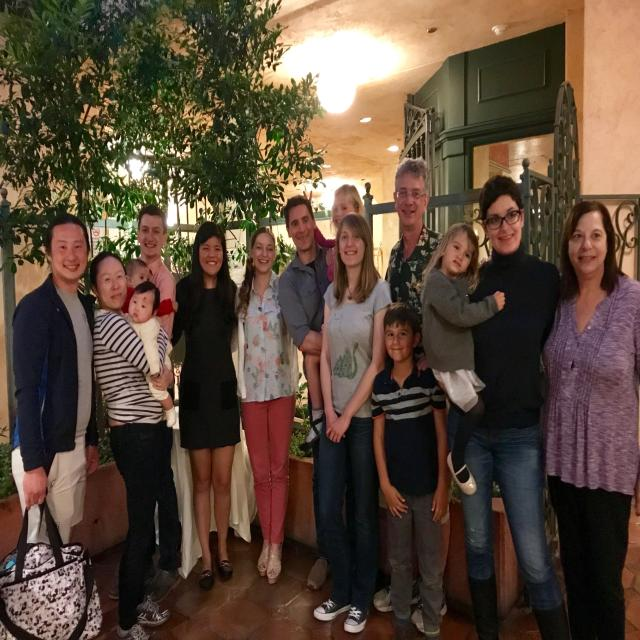body: (436, 171, 577, 640), (134, 216, 266, 594), (0, 210, 107, 640), (540, 201, 640, 639), (307, 211, 393, 638), (83, 246, 176, 640), (277, 194, 357, 594), (368, 298, 451, 640), (416, 218, 510, 501), (230, 224, 301, 585), (136, 202, 183, 606), (298, 184, 368, 452), (382, 156, 447, 376), (119, 279, 178, 429), (118, 257, 179, 324)
